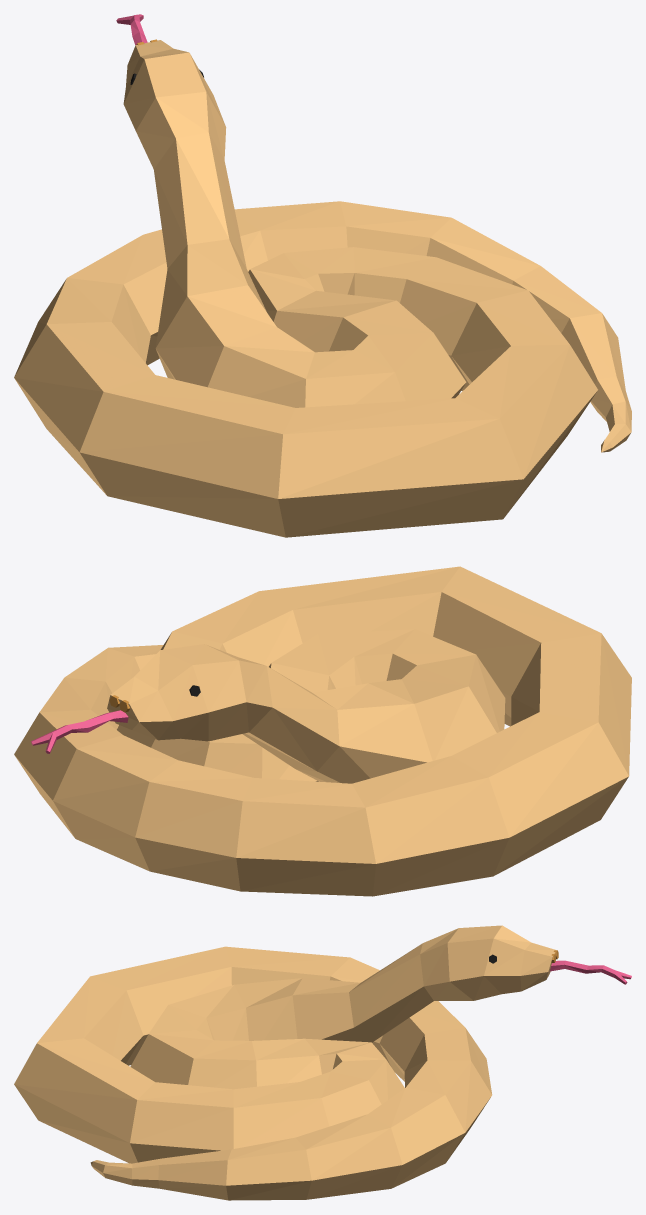
Rendered from scene_3ko0YRUUws.glb.
The picture shows the model from 3 angles, top to bottom: view 1: azimuth 30°, elevation 25°; view 2: azimuth 150°, elevation 25°; view 3: azimuth 270°, elevation 25°; orthographic projection. The views are drawn at different scales.
Visible parts, largest first — view 1: group2142745760; view 2: group2142745760, group1742473196; view 3: group2142745760, group1742473196.
Boxes of the visible parts, left/top/right/bottom form: group2142745760: left=14, top=40, right=631, bottom=537; group2142745760: left=14, top=566, right=631, bottom=896; group1742473196: left=31, top=710, right=128, bottom=753; group2142745760: left=14, top=925, right=556, bottom=1200; group1742473196: left=549, top=960, right=631, bottom=984.
Bounding box in the file's own units: 1 × 0.4382 × 1.34.
